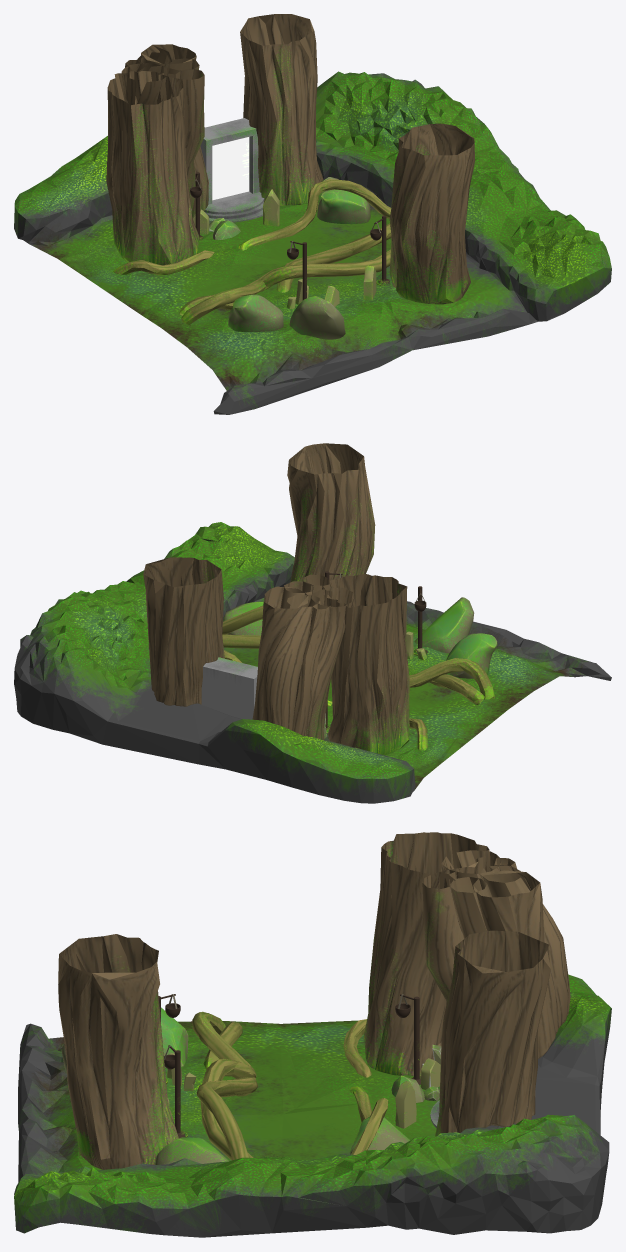
File: ENVIROMENT_2_FIXED_SEPARATED.fbx
3 renders of one model, top to bottom at view 1: azimuth 30°, elevation 25°; view 2: azimuth 150°, elevation 25°; view 3: azimuth 270°, elevation 25°, orthographic. The views are drawn at different scales.
Parts seen in each view (by area): view 1: Cylinder.022, Cylinder.014, Cylinder.016, Cylinder.021, Cylinder.043, Cylinder.010, Cylinder.011, Cylinder.015, Cylinder.023, Cylinder.025, Cylinder.008, Cylinder.031 (+5 smaller); view 2: Cylinder.022, Cylinder.014, Cylinder.016, Cylinder.021, Cylinder.013, Cylinder.043, Cylinder.018, Cylinder.012, Cylinder.017, Cylinder.011, Cylinder.023, Cylinder.025 (+3 smaller); view 3: Cylinder.022, Cylinder.016, Cylinder.021, Cylinder.014, Cylinder.017, Cylinder.015, Cylinder.011, Cylinder.008, Cylinder.013, Cylinder.010, Cylinder.019, Cylinder.028 (+5 smaller).
Boxes of the visible parts, box(x1,y1,x2,y2) form: Cylinder.022: box(14, 71, 611, 414); Cylinder.014: box(106, 71, 199, 265); Cylinder.016: box(389, 123, 474, 304); Cylinder.021: box(240, 14, 323, 206); Cylinder.043: box(200, 118, 259, 204); Cylinder.010: box(113, 179, 391, 275); Cylinder.011: box(181, 249, 390, 324); Cylinder.015: box(175, 69, 204, 213); Cylinder.023: box(289, 296, 345, 339); Cylinder.025: box(228, 294, 283, 331); Cylinder.008: box(179, 223, 391, 315); Cylinder.031: box(317, 189, 370, 224); Cylinder.022: box(14, 522, 611, 803); Cylinder.014: box(327, 574, 409, 755); Cylinder.016: box(287, 443, 375, 584); Cylinder.021: box(143, 557, 224, 706); Cylinder.013: box(261, 594, 320, 730); Cylinder.043: box(201, 657, 257, 719); Cylinder.018: box(306, 587, 354, 740); Cylinder.012: box(292, 600, 330, 736); Cylinder.017: box(252, 586, 308, 720); Cylinder.011: box(222, 634, 494, 699); Cylinder.023: box(414, 597, 474, 653); Cylinder.025: box(446, 633, 497, 678); Cylinder.022: box(14, 974, 611, 1237); Cylinder.016: box(58, 934, 178, 1169); Cylinder.021: box(435, 930, 550, 1136); Cylinder.014: box(363, 832, 489, 1076); Cylinder.017: box(473, 870, 557, 1058); Cylinder.015: box(422, 875, 463, 1008); Cylinder.011: box(192, 1011, 256, 1160); Cylinder.008: box(196, 1021, 257, 1160); Cylinder.013: box(479, 865, 570, 1028); Cylinder.010: box(343, 1019, 388, 1154); Cylinder.019: box(449, 877, 491, 938); Cylinder.028: box(155, 1137, 228, 1164).
Bounding box in the file's own units: 968 × 424 × 951.
